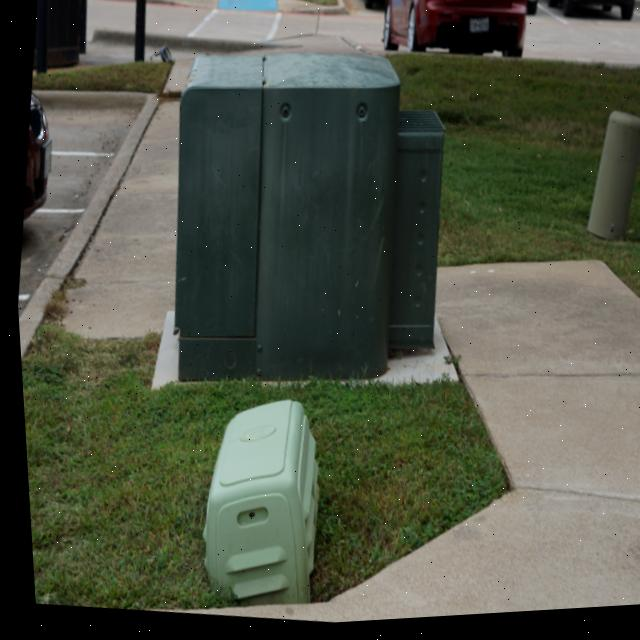Automobile: (363, 0, 538, 63), (20, 94, 49, 220), (547, 0, 634, 28)
Obstacle: (168, 57, 442, 384), (196, 403, 312, 606), (584, 119, 640, 247), (134, 0, 145, 62)
Road: (145, 0, 383, 55), (39, 92, 144, 209), (521, 5, 640, 73), (15, 216, 73, 293), (87, 0, 134, 40), (74, 43, 132, 69)
Sidewalk: (214, 267, 640, 625), (59, 103, 177, 339)
